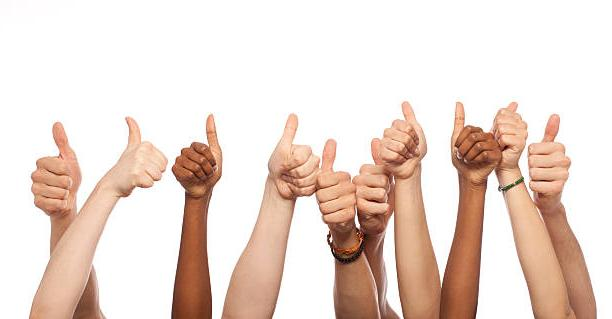thumbsup: (29, 121, 84, 214), (172, 113, 224, 196), (270, 113, 319, 199), (450, 103, 502, 179), (119, 116, 170, 190), (527, 112, 571, 197), (379, 99, 429, 173), (315, 138, 355, 224), (352, 138, 389, 219)
